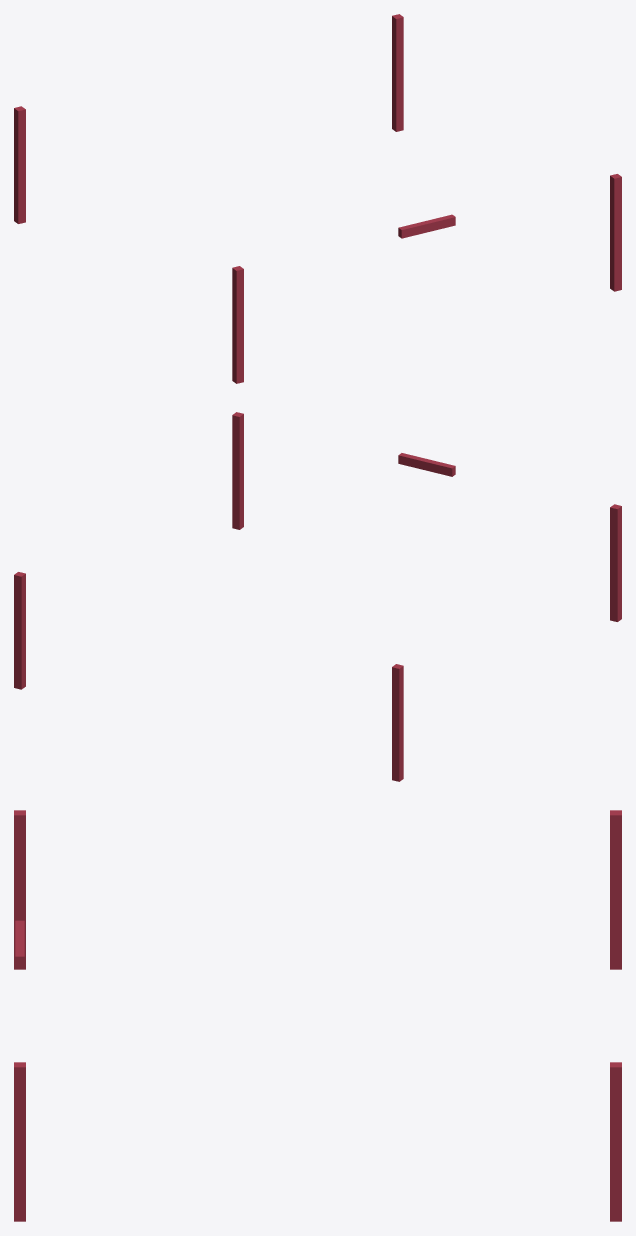
Rendered from accent-skin-3.glb.
3 views of the same model, one above another, from view 1: azimuth 30°, elevation 25°; view 2: azimuth 150°, elevation 25°; view 3: azimuth 270°, elevation 25° (orthographic). The views are drawn at different scales.
Parts seen in each view (by area): view 1: accent-skin-3; view 2: accent-skin-3; view 3: accent-skin-3.
Boxes of the visible parts, x1,y1,x2,y2 form: accent-skin-3: (14, 14, 621, 383); accent-skin-3: (14, 412, 621, 781); accent-skin-3: (14, 810, 621, 1221).
Size of the model in its own units: 14.28 by 4 by 14.28.
1 material, 1 textured.
